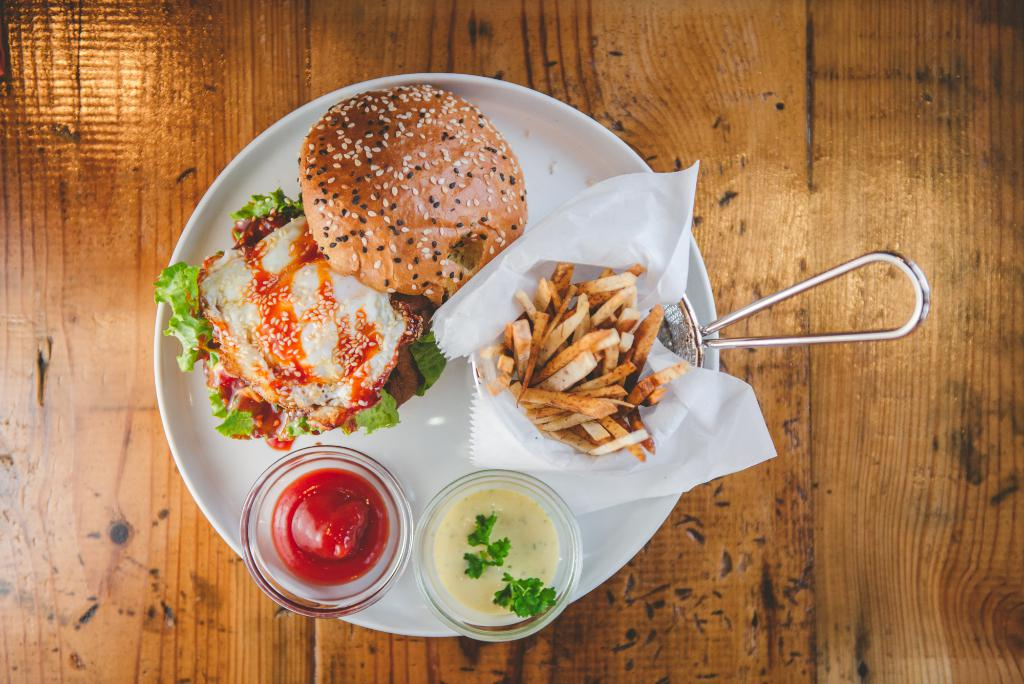French fries: (490, 263, 689, 454)
